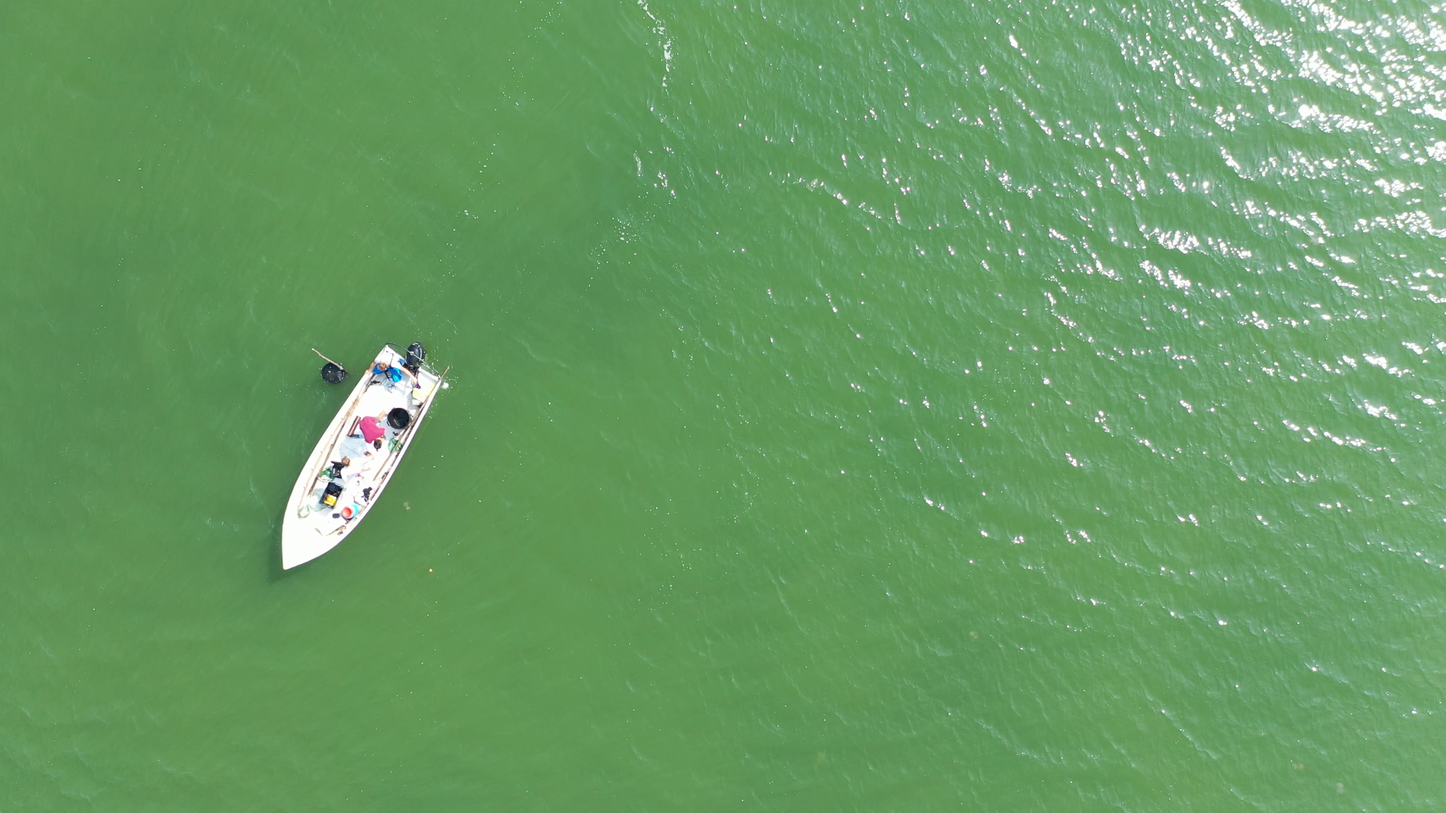meduse: (816, 754, 826, 766), (1336, 782, 1344, 795), (403, 501, 410, 511), (1294, 763, 1303, 770), (971, 630, 977, 639)
